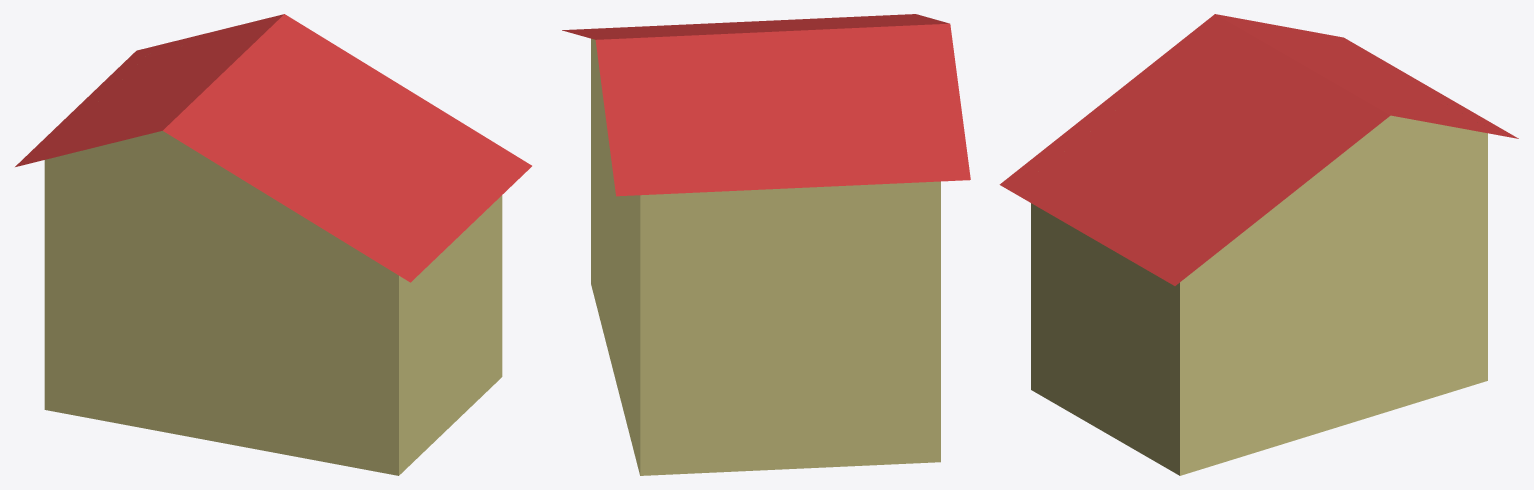
3 renders of one model, left to right at view 1: azimuth 30°, elevation 25°; view 2: azimuth 150°, elevation 25°; view 3: azimuth 270°, elevation 25°, orthographic. The views are drawn at different scales.
Bounding box in the file's own units: 10.89 × 11.51 × 7.5.
